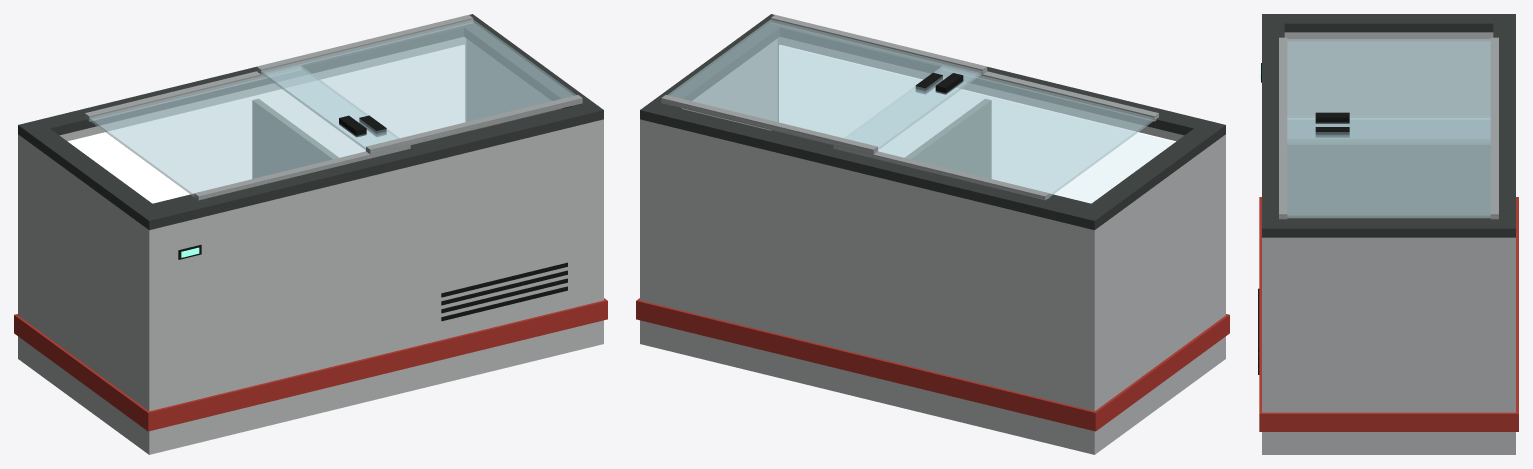
File: tu_dong.glb
The picture shows the model from 3 angles, left to right: view 1: azimuth 30°, elevation 25°; view 2: azimuth 150°, elevation 25°; view 3: azimuth 270°, elevation 25°; orthographic projection. The views are drawn at different scales.
Parts seen in each view (by area): view 1: tu_dong; view 2: tu_dong; view 3: tu_dong.
Boxes of the visible parts, box(x1,y1,x2,y2) form: tu_dong: box(14, 14, 607, 454); tu_dong: box(636, 14, 1229, 454); tu_dong: box(1258, 14, 1518, 454).
Bounding box in the file's own units: 1.82 × 0.9325 × 0.924.
